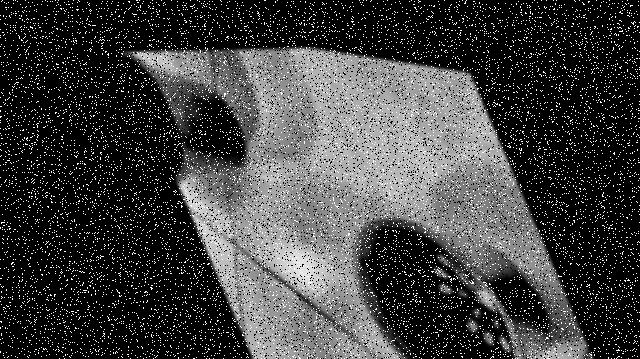pot: (352, 216, 549, 359), (121, 51, 245, 179)
